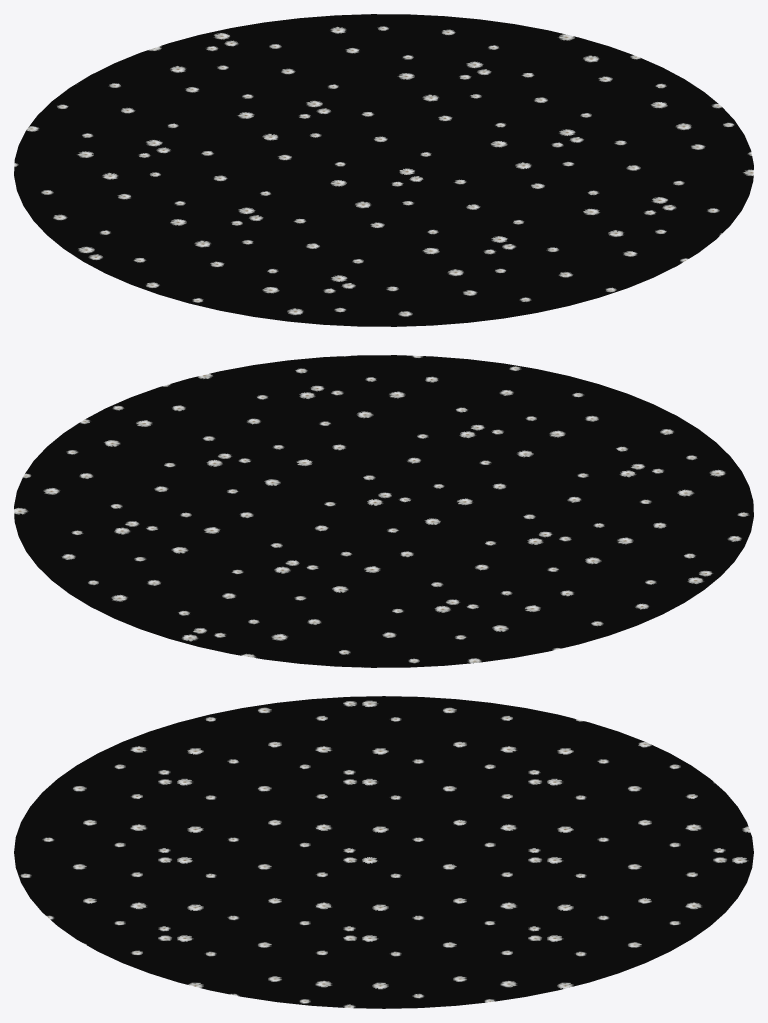
File: flowers.fbx
3 views of the same model, one above another, from view 1: azimuth 30°, elevation 25°; view 2: azimuth 150°, elevation 25°; view 3: azimuth 270°, elevation 25° (orthographic).
Parts seen in each view (by area): view 1: Cylinder.005; view 2: Cylinder.005; view 3: Cylinder.005.
Part boxes in pixels (x1=…): Cylinder.005: x1=14, y1=14, x2=753, y2=326; Cylinder.005: x1=14, y1=355, x2=753, y2=667; Cylinder.005: x1=14, y1=696, x2=753, y2=1008.
Bounding box in the file's own units: 4500 × 0.000197 × 4500.
